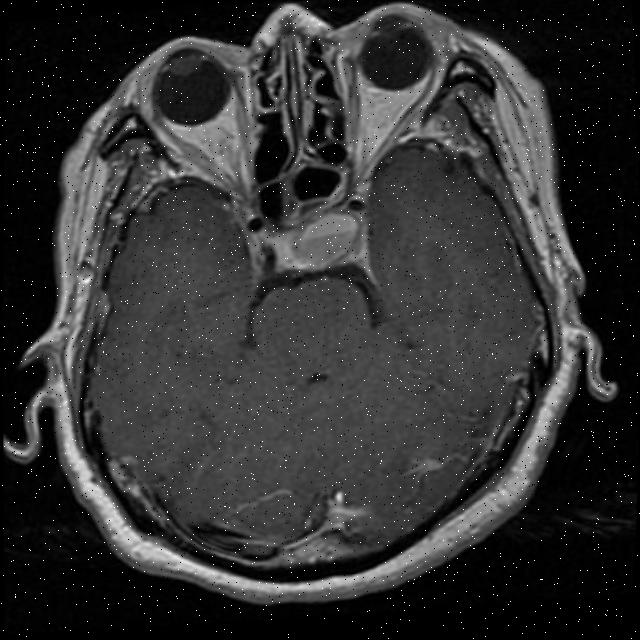Pituitary: (299, 209, 358, 267)
